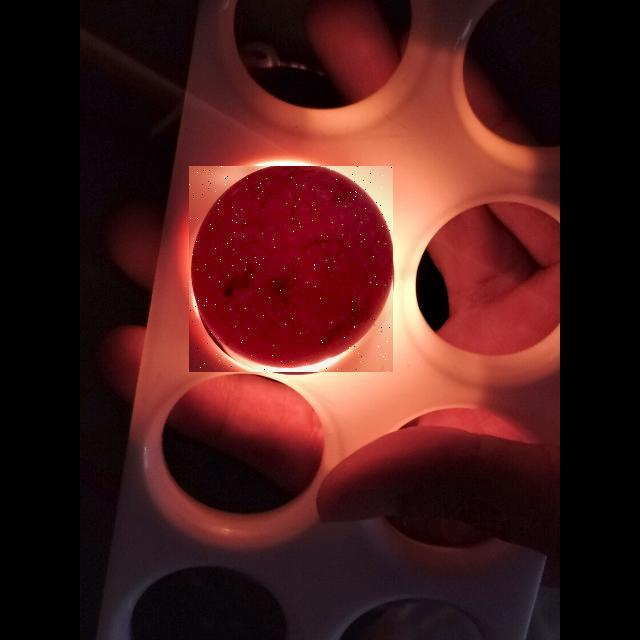Infertile: (189, 166, 393, 372)
